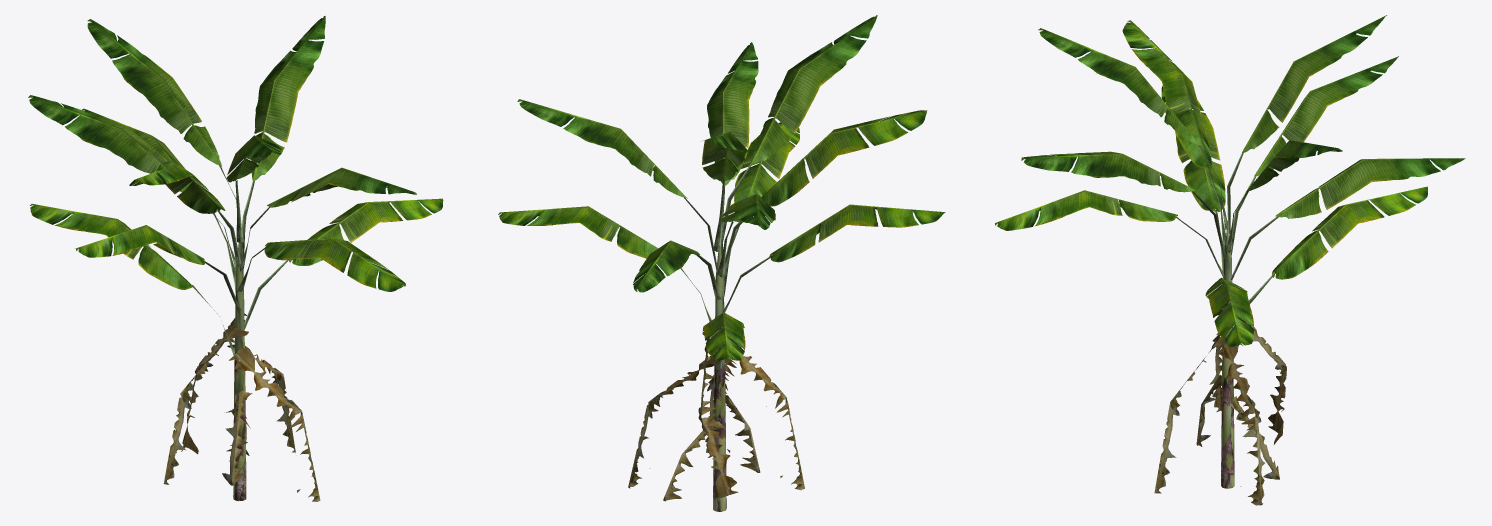
File: ban_LOD1.fbx
The picture shows the model from 3 angles, left to right: view 1: azimuth 30°, elevation 25°; view 2: azimuth 150°, elevation 25°; view 3: azimuth 270°, elevation 25°; orthographic projection. The views are drawn at different scales.
Parts seen in each view (by area): view 1: Mesh Object; view 2: Mesh Object; view 3: Mesh Object.
Boxes of the visible parts, x1=… form: Mesh Object: x1=28, y1=16, x2=443, y2=501; Mesh Object: x1=498, y1=15, x2=945, y2=511; Mesh Object: x1=995, y1=15, x2=1465, y2=505.
Size of the model in its own units: 19.49 by 19.7 by 20.
